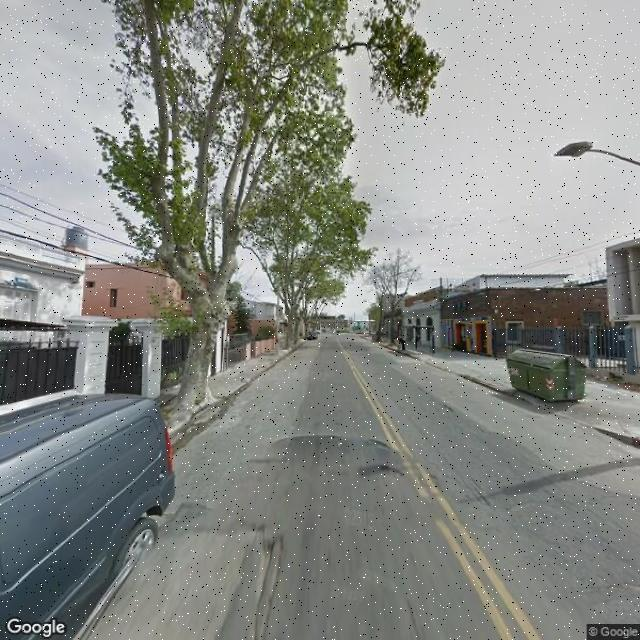garbage container: (497, 339, 593, 413)
